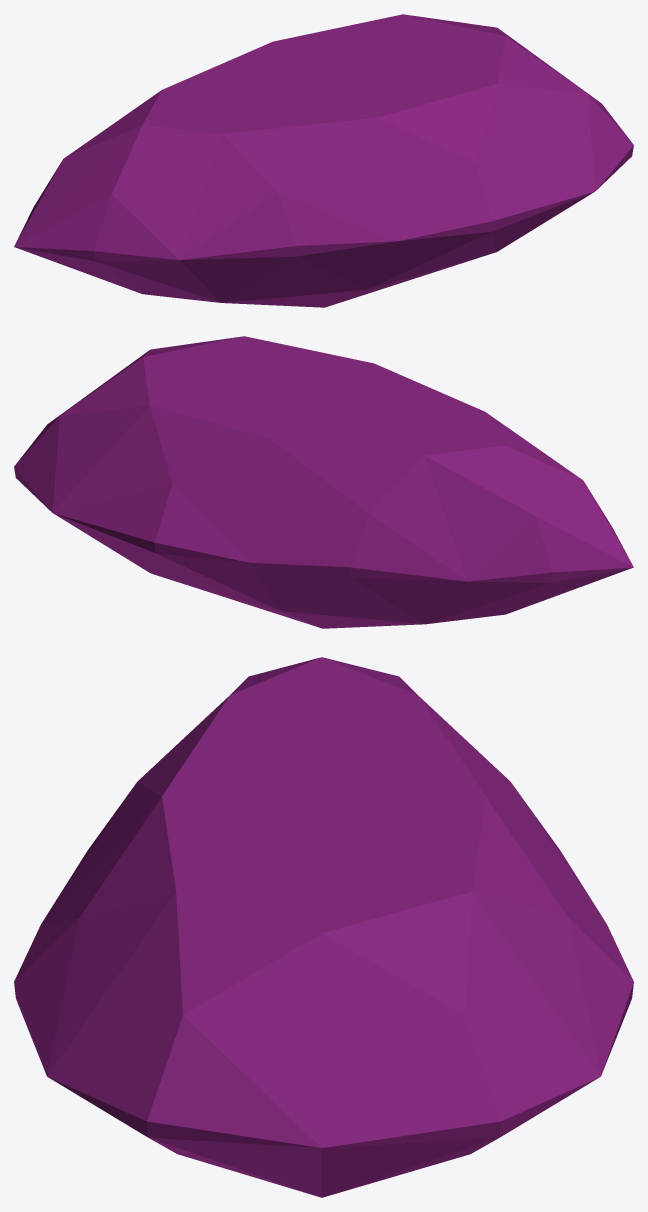
Rendered from Gem005.fbx.
The picture shows the model from 3 angles, top to bottom: view 1: azimuth 30°, elevation 25°; view 2: azimuth 150°, elevation 25°; view 3: azimuth 270°, elevation 25°; orthographic projection. The views are drawn at different scales.
Visible parts, largest first — view 1: Gem005; view 2: Gem005; view 3: Gem005.
Part boxes in pixels (x1,y1,x2,y2): Gem005: (14, 14, 633, 307); Gem005: (14, 336, 633, 628); Gem005: (14, 657, 633, 1197).
Bounding box in the file's own units: 248 × 91.83 × 145.
